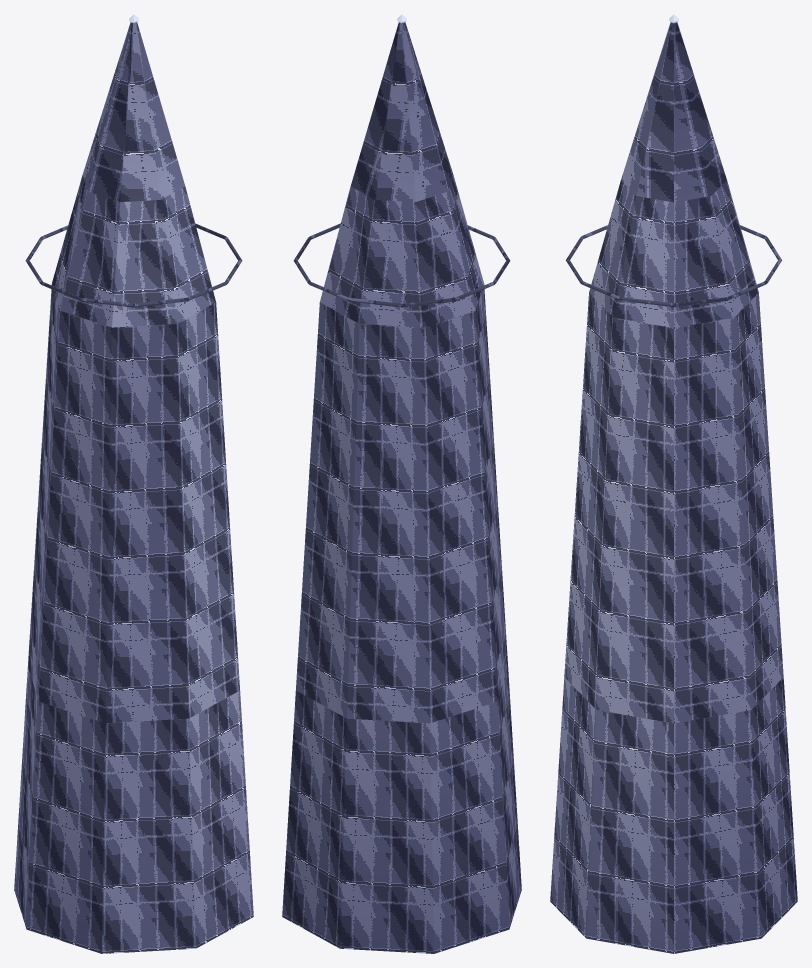
Rendered from cysky.megatower.glb.
3 views of the same model, side by side, from view 1: azimuth 30°, elevation 25°; view 2: azimuth 150°, elevation 25°; view 3: azimuth 270°, elevation 25° (orthographic).
Visible parts, largest first — view 1: kit_body, kit_beacons; view 2: kit_body, kit_beacons; view 3: kit_body, kit_beacons.
Part boxes in pixels (bbox=[...]): kit_body: bbox=[14, 22, 253, 953]; kit_beacons: bbox=[25, 14, 242, 307]; kit_body: bbox=[282, 22, 521, 953]; kit_beacons: bbox=[293, 14, 510, 307]; kit_body: bbox=[550, 22, 797, 953]; kit_beacons: bbox=[566, 14, 781, 306].
Bounding box in the file's own units: 9.1 × 35.98 × 9.1.
Materials: 3 (3 with a texture image).
